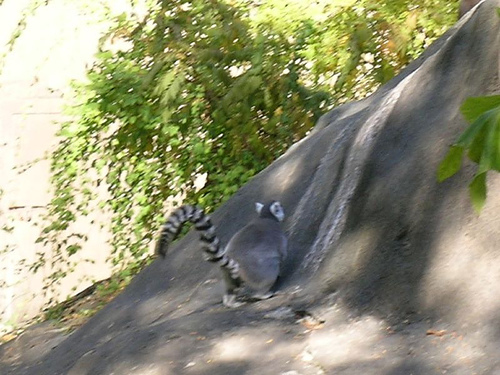cat: (154, 201, 287, 310)
